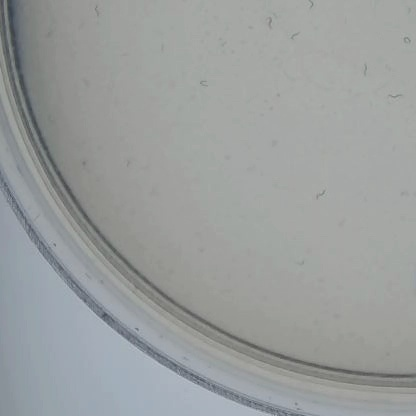worm: (394, 32, 415, 56), (280, 28, 307, 46), (380, 89, 408, 105), (357, 57, 372, 84), (194, 73, 209, 100), (312, 185, 329, 207), (261, 14, 277, 36), (88, 0, 103, 22), (298, 0, 318, 14), (294, 255, 311, 271), (157, 37, 172, 54)
